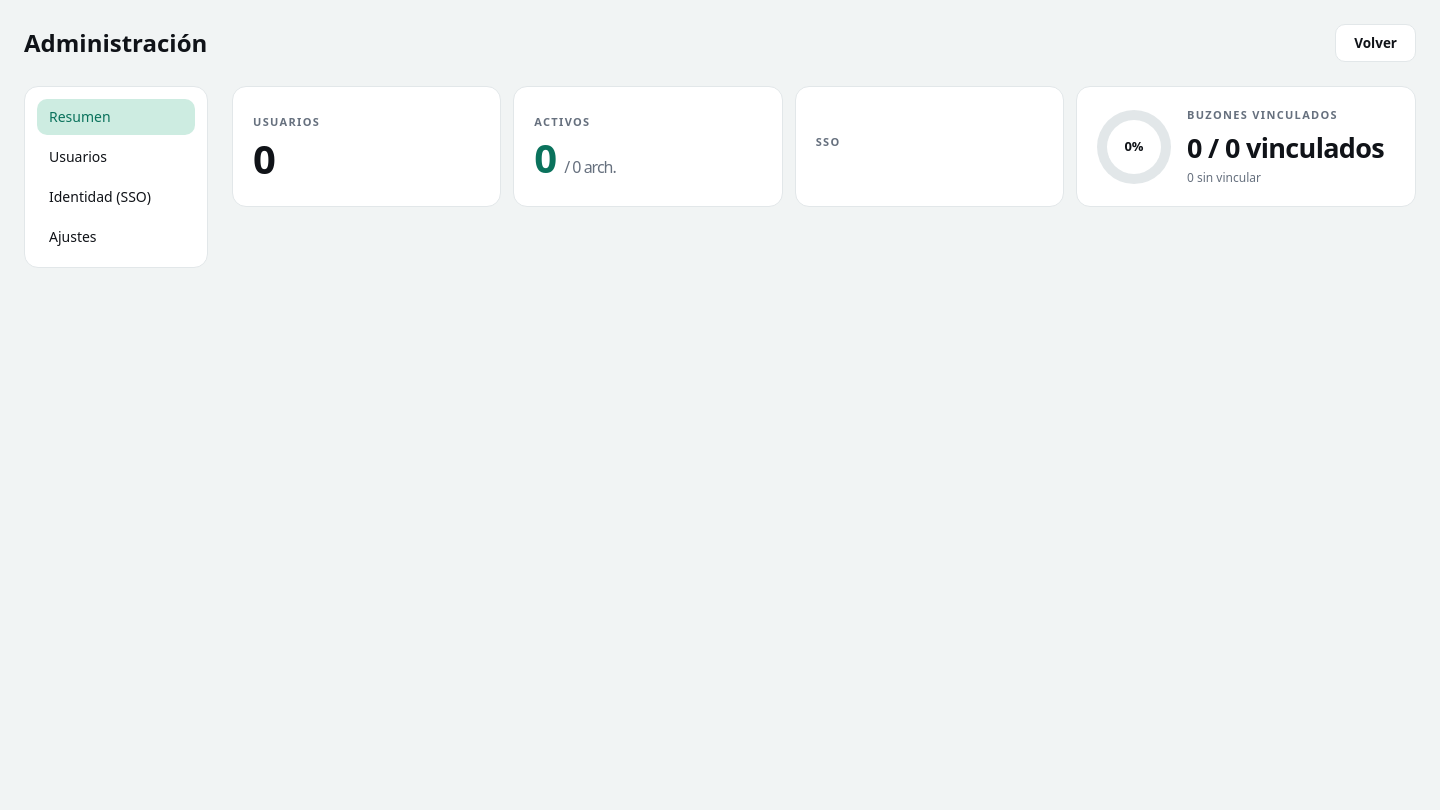
Test: AdminPage users table › lists users with mailbox/status text and a role select per row
Click the button "Usuarios" at (116,157), box [37,139,195,175]
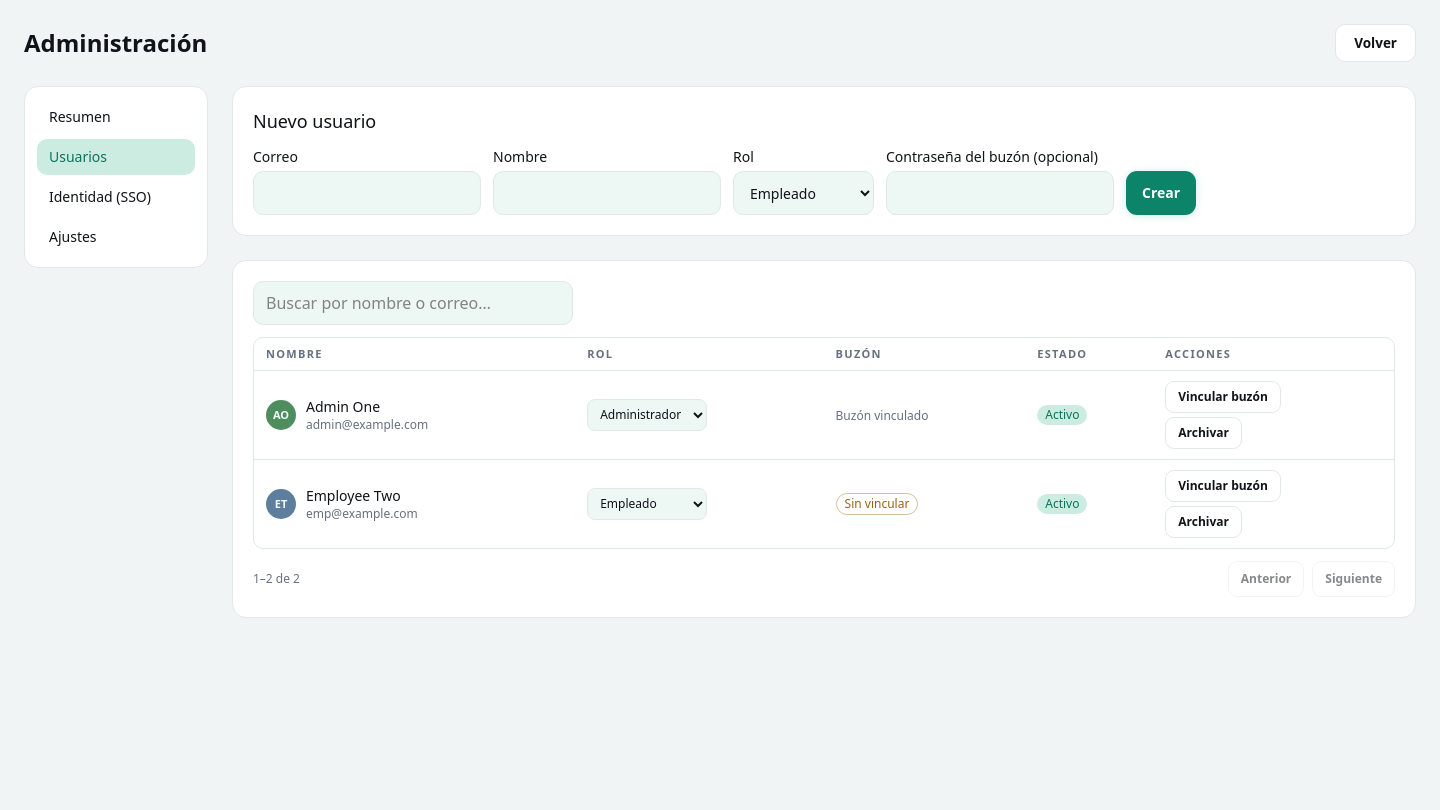
Check: the text "admin@example.com" is shown, box [306,417,428,433]
Check: the text "emp@example.com" is shown, box [306,506,418,522]
Check: the text "Buzón vinculado" is shown, box [836,407,928,424]
